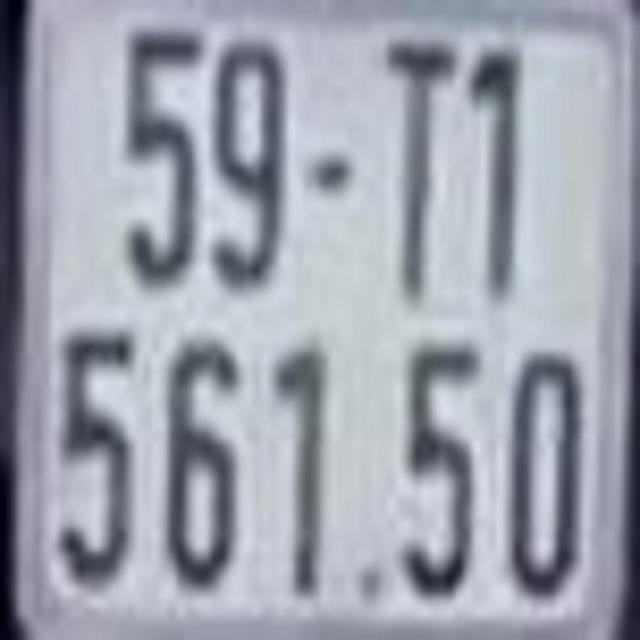0: (512, 351, 579, 596)
1: (471, 35, 525, 288), (269, 350, 323, 590)
5: (56, 322, 146, 589), (402, 341, 475, 594), (123, 31, 196, 280)
6: (166, 339, 245, 584)
9: (211, 40, 281, 282)
T: (387, 40, 453, 296)
